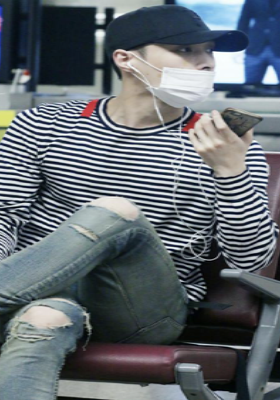mask_weared_incorrect: (130, 43, 216, 108)
